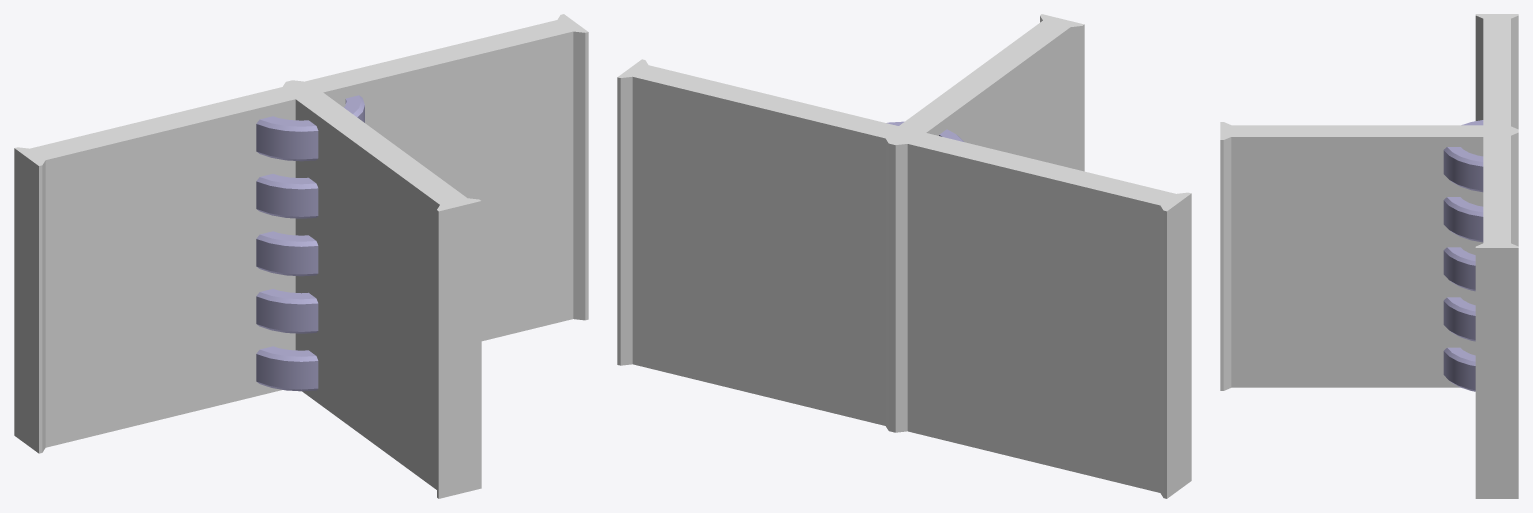
File: wall_corners_two.fbx
3 views of the same model, side by side, from view 1: azimuth 30°, elevation 25°; view 2: azimuth 150°, elevation 25°; view 3: azimuth 270°, elevation 25° (orthographic). The views are drawn at different scales.
Parts seen in each view (by area): view 1: pCube122; view 2: pCube122; view 3: pCube122.
Part boxes in pixels (x1,y1,x2,y2): pCube122: (14,14,588,498); pCube122: (617,14,1191,498); pCube122: (1220,14,1518,498).
Bounding box in the file's own units: 10 × 5 × 5.39.
